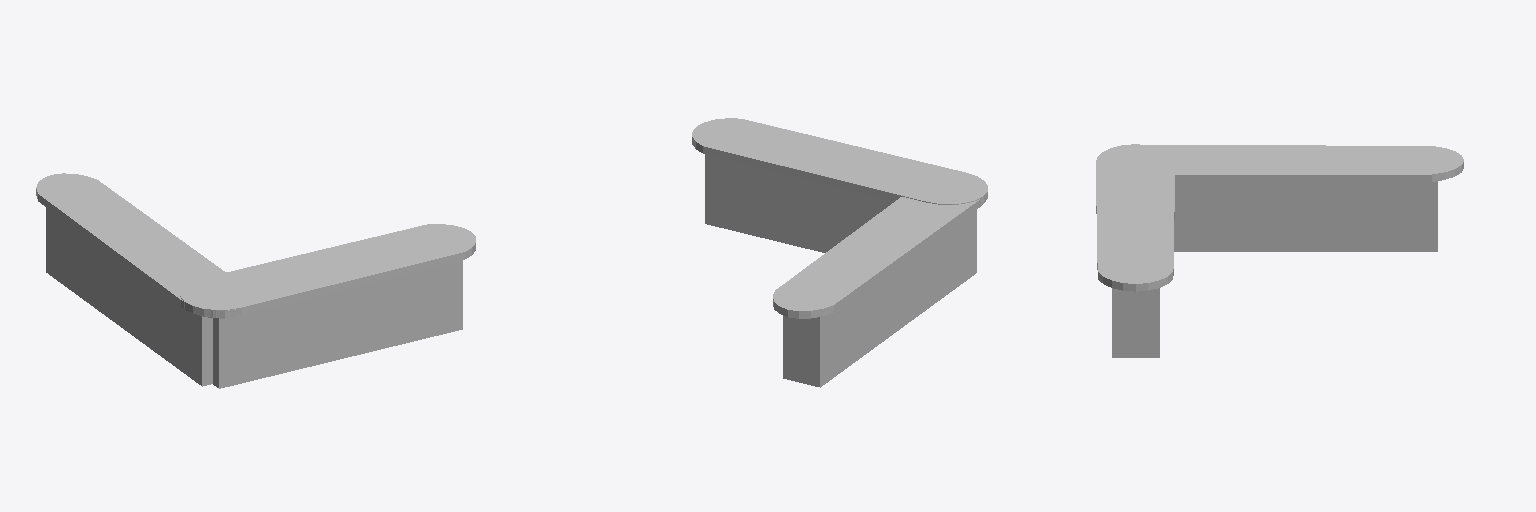
The model's file is Counter.obj.
3 views of the same model, side by side, from view 1: azimuth 30°, elevation 25°; view 2: azimuth 150°, elevation 25°; view 3: azimuth 270°, elevation 25° (orthographic).
Visible parts, largest first — view 1: polySurface34; view 2: polySurface34; view 3: polySurface34.
Boxes of the visible parts, x1,y1,x2,y2 form: polySurface34: [36, 173, 475, 388]; polySurface34: [692, 118, 987, 387]; polySurface34: [1096, 144, 1463, 357].
Size of the model in its own units: 14.62 by 4.08 by 16.28.